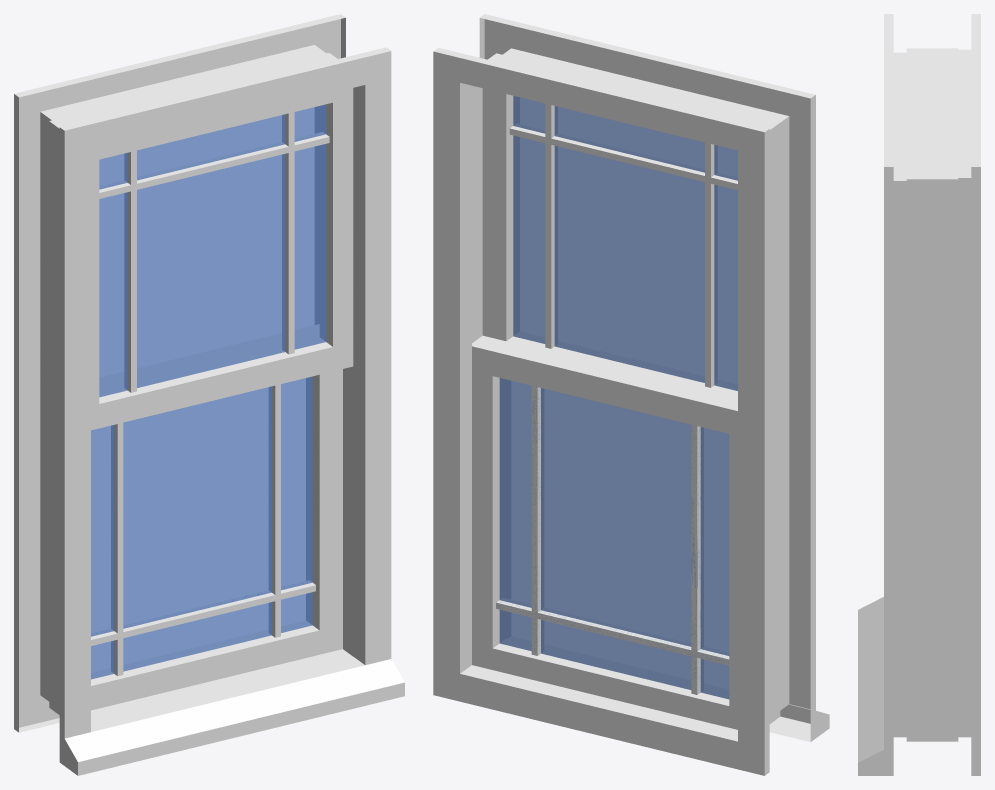
File: window1.dae
3 renders of one model, left to right at view 1: azimuth 30°, elevation 25°; view 2: azimuth 150°, elevation 25°; view 3: azimuth 270°, elevation 25°, orthographic. The views are drawn at different scales.
Parts seen in each view (by area): view 1: SketchUp (×24); view 2: SketchUp (×24); view 3: SketchUp (×6).
Boxes of the visible parts, bbox=[...] form: SketchUp (×24): bbox=[14, 14, 404, 775]; SketchUp (×24): bbox=[433, 14, 829, 775]; SketchUp (×6): bbox=[858, 14, 980, 775].
Bounding box in the file's own units: 28 × 9.5 × 52.
